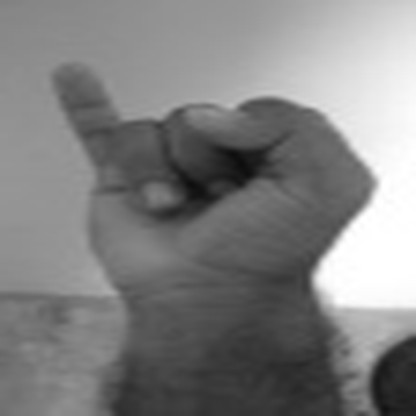i: (43, 49, 382, 289)
